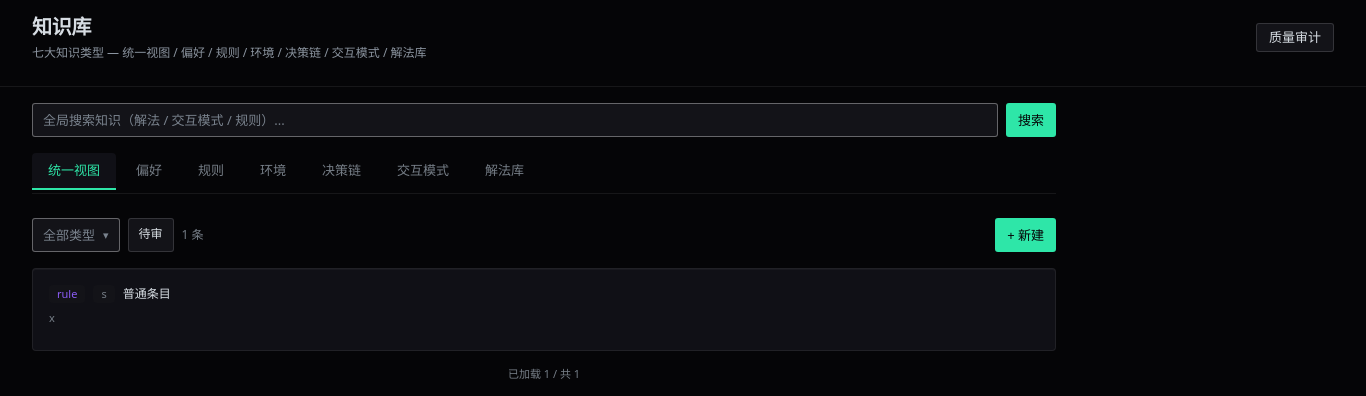
E5: 搜索态替换 tab 内容区 › 搜索后结果替换 tab 内容区（tab 栏与条目列表不并存），「清除」返回 tab 视图
Check: the text "普通条目" is shown, box top-left (123, 286), bottom-right (171, 303)
Type "解法" into the field with placeholder "全局搜索知识（解法 / 交互模式 / 规则）...".
click(515, 120); type("解法")  # box top-left (32, 103), bottom-right (998, 137)
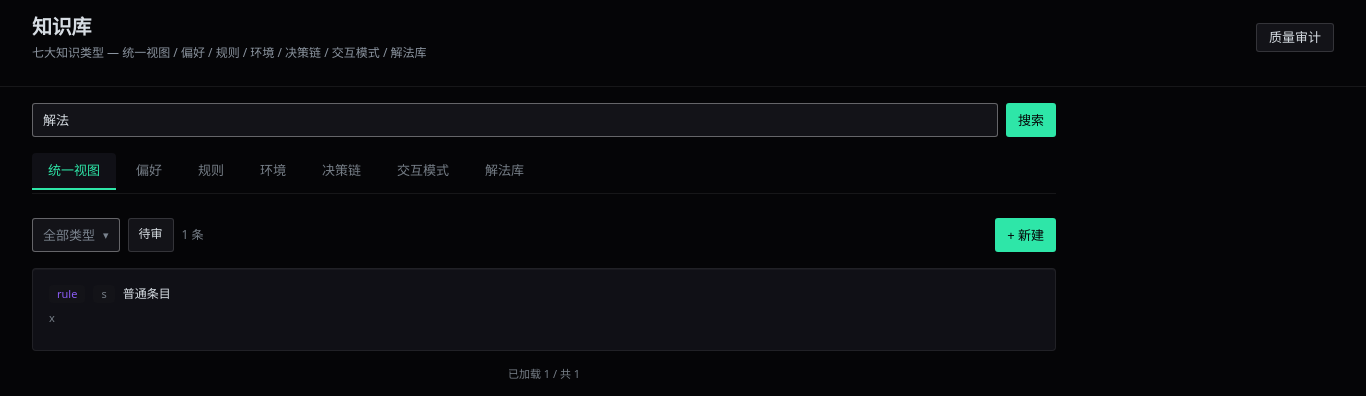
Click the button "搜索".
click(1031, 120)  # box top-left (1006, 103), bottom-right (1056, 137)
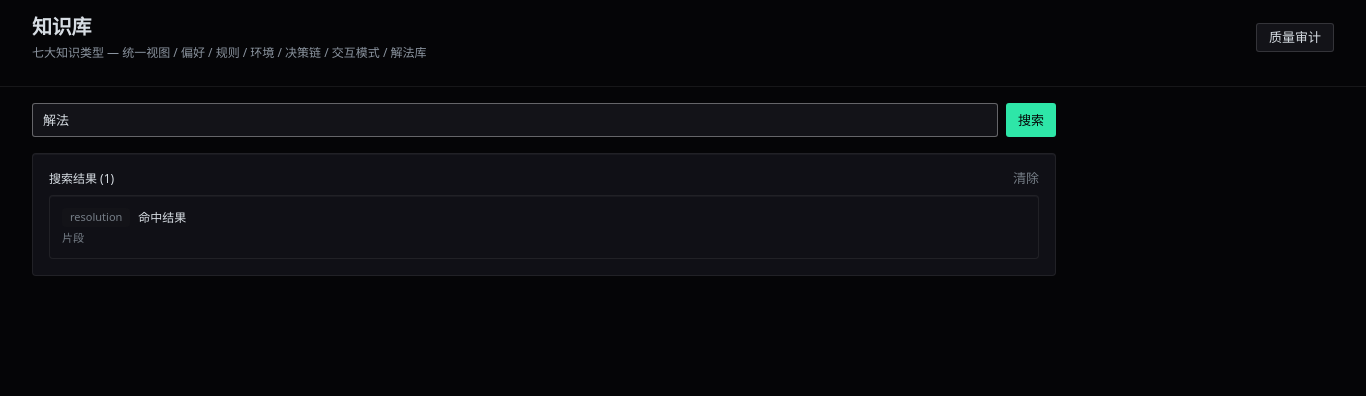
Check: the text "命中结果" is shown, box top-left (138, 209), bottom-right (186, 226)
Check: the text "普通条目" is gone
Check: the text "resolution" is shown, box top-left (62, 208), bottom-right (130, 227)
Click the button "清除".
click(1026, 179)  # box top-left (1013, 170), bottom-right (1039, 187)
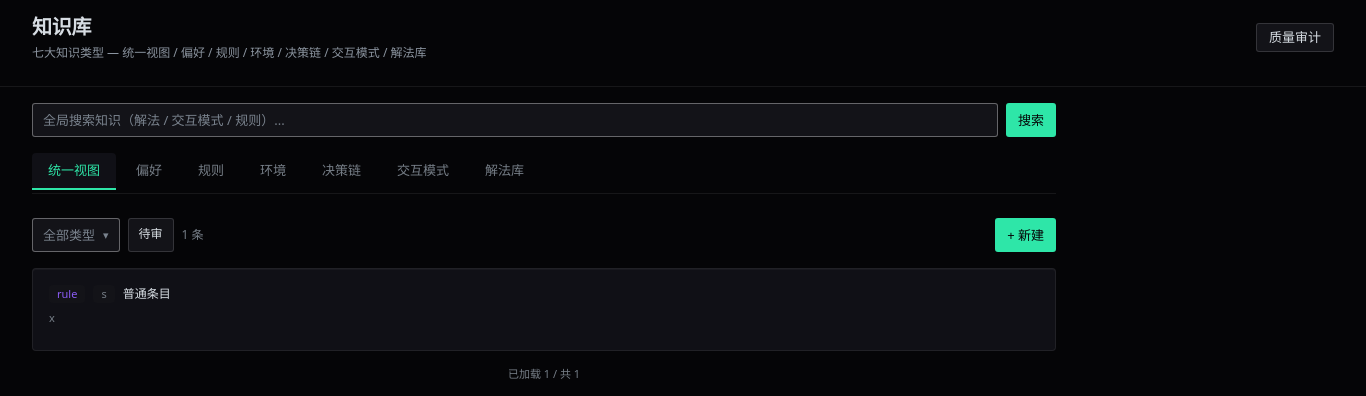
Check: the text "普通条目" is shown, box top-left (123, 286), bottom-right (171, 303)
Check: the button "统一视图" is shown, box top-left (32, 153), bottom-right (116, 190)
